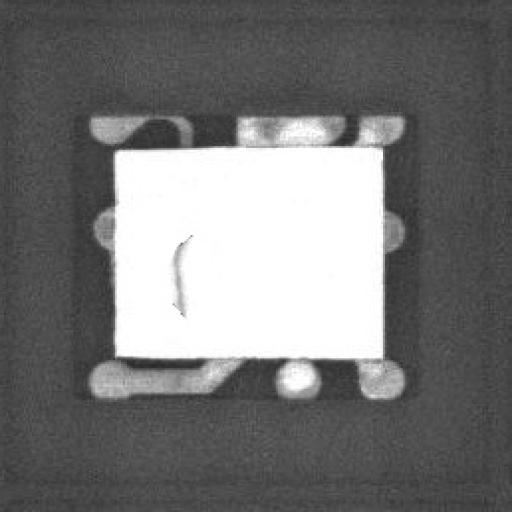DIE_INK: (159, 244, 182, 332)
